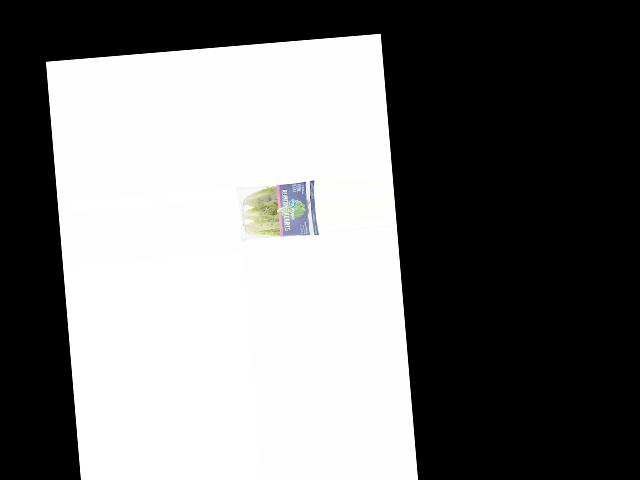lettuce: (238, 178, 317, 243)
